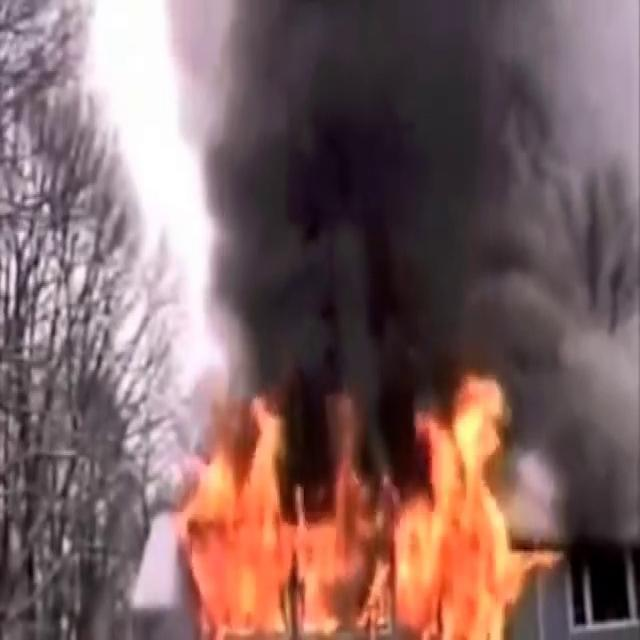Fire: (174, 375, 542, 640)
Smoke: (160, 0, 640, 469)
